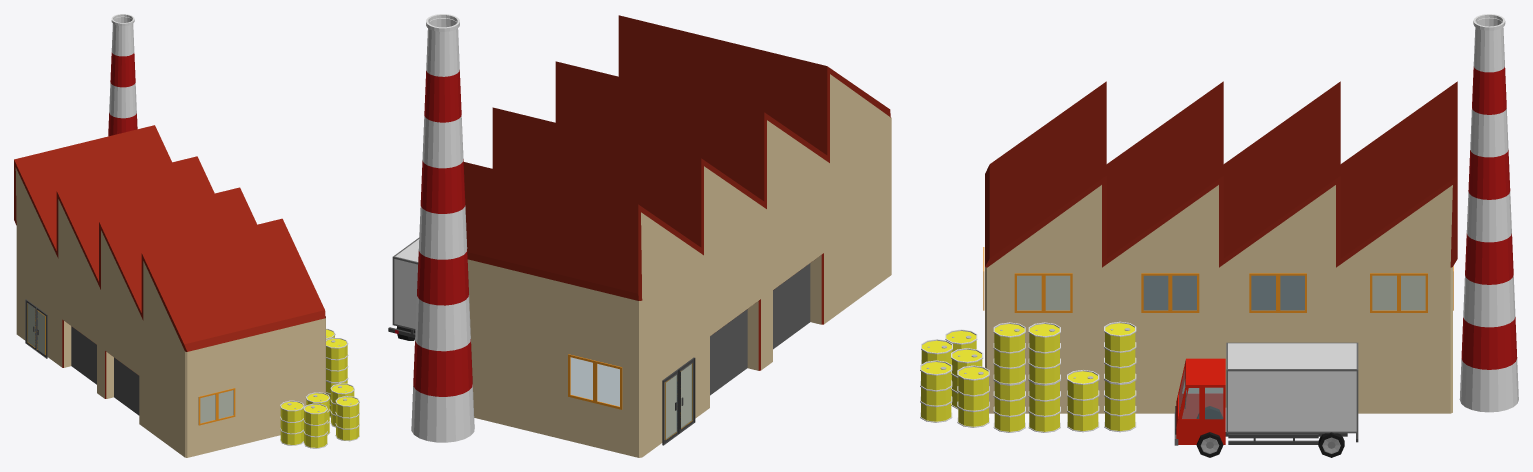
The model's file is factory_01.glb.
3 views of the same model, side by side, from view 1: azimuth 30°, elevation 25°; view 2: azimuth 150°, elevation 25°; view 3: azimuth 270°, elevation 25° (orthographic). The views are drawn at different scales.
Visible parts, largest first — view 1: Factory_Colore_0, Ciminiere_Colore_0, OilBarrel.018_Colore_0, OilBarrel.016_Colore_0, OilBarrel.014_Colore_0, OilBarrel.015_Colore_0, Factory_Vetro_0, Base.003_Vetro_0, Base.003_Colore_0, OilBarrel.017_Colore_0, OilBarrel.013_Colore_0; view 2: Factory_Colore_0, Ciminiere_Colore_0, Camion.002_Colore_0, Factory_Vetro_0, Base.003_Vetro_0, Base.003_Colore_0; view 3: Factory_Colore_0, Ciminiere_Colore_0, Camion.002_Colore_0, Factory_Vetro_0, OilBarrel.005_Colore_0, OilBarrel.017_Colore_0, OilBarrel.016_Colore_0, OilBarrel.015_Colore_0, OilBarrel_Colore_0, OilBarrel.004_Colore_0, OilBarrel.007_Colore_0, OilBarrel.003_Colore_0 (+5 smaller).
Part boxes in pixels (x1,y1,x2,y2): Factory_Colore_0: (14, 125, 325, 457); Ciminiere_Colore_0: (108, 14, 137, 136); OilBarrel.018_Colore_0: (303, 403, 327, 448); OilBarrel.016_Colore_0: (335, 396, 359, 441); OilBarrel.014_Colore_0: (280, 400, 304, 445); OilBarrel.015_Colore_0: (326, 337, 348, 382); Factory_Vetro_0: (200, 390, 233, 423); Base.003_Vetro_0: (27, 304, 44, 354); Base.003_Colore_0: (25, 299, 47, 358); OilBarrel.017_Colore_0: (330, 383, 354, 427); OilBarrel.013_Colore_0: (305, 392, 330, 435); Factory_Colore_0: (463, 15, 891, 457); Ciminiere_Colore_0: (411, 14, 474, 442); Camion.002_Colore_0: (388, 237, 419, 337); Factory_Vetro_0: (570, 357, 619, 406); Base.003_Vetro_0: (666, 364, 692, 439); Base.003_Colore_0: (662, 357, 695, 445); Factory_Colore_0: (983, 81, 1457, 413); Ciminiere_Colore_0: (1459, 14, 1518, 412); Camion.002_Colore_0: (1174, 342, 1358, 445); Factory_Vetro_0: (1017, 275, 1425, 310); OilBarrel.005_Colore_0: (1067, 370, 1099, 432); OilBarrel.017_Colore_0: (957, 365, 989, 427); OilBarrel.016_Colore_0: (920, 360, 952, 422); OilBarrel.015_Colore_0: (993, 322, 1025, 384); OilBarrel_Colore_0: (1104, 321, 1136, 383); OilBarrel.004_Colore_0: (1028, 322, 1060, 384); OilBarrel.007_Colore_0: (993, 375, 1025, 432); OilBarrel.003_Colore_0: (1028, 380, 1060, 432).
Bounding box in the file's own units: 4.25 × 5.34 × 7.61.
Materials: 2 (1 with a texture image).
